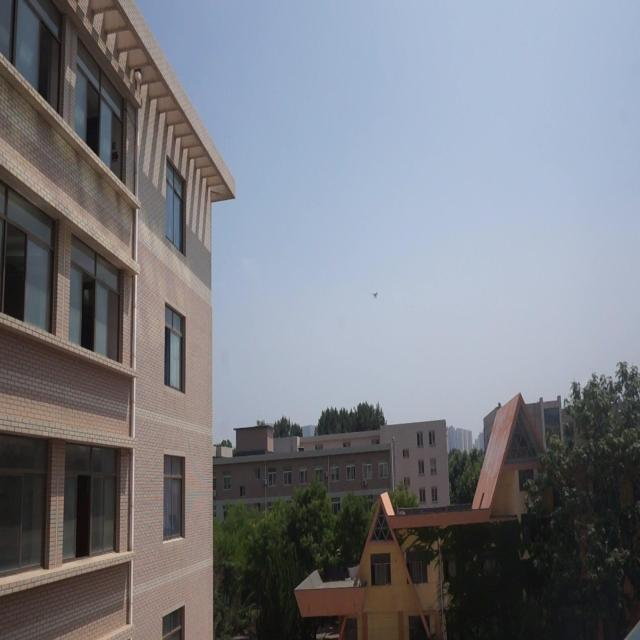drone: (371, 284, 380, 302)
